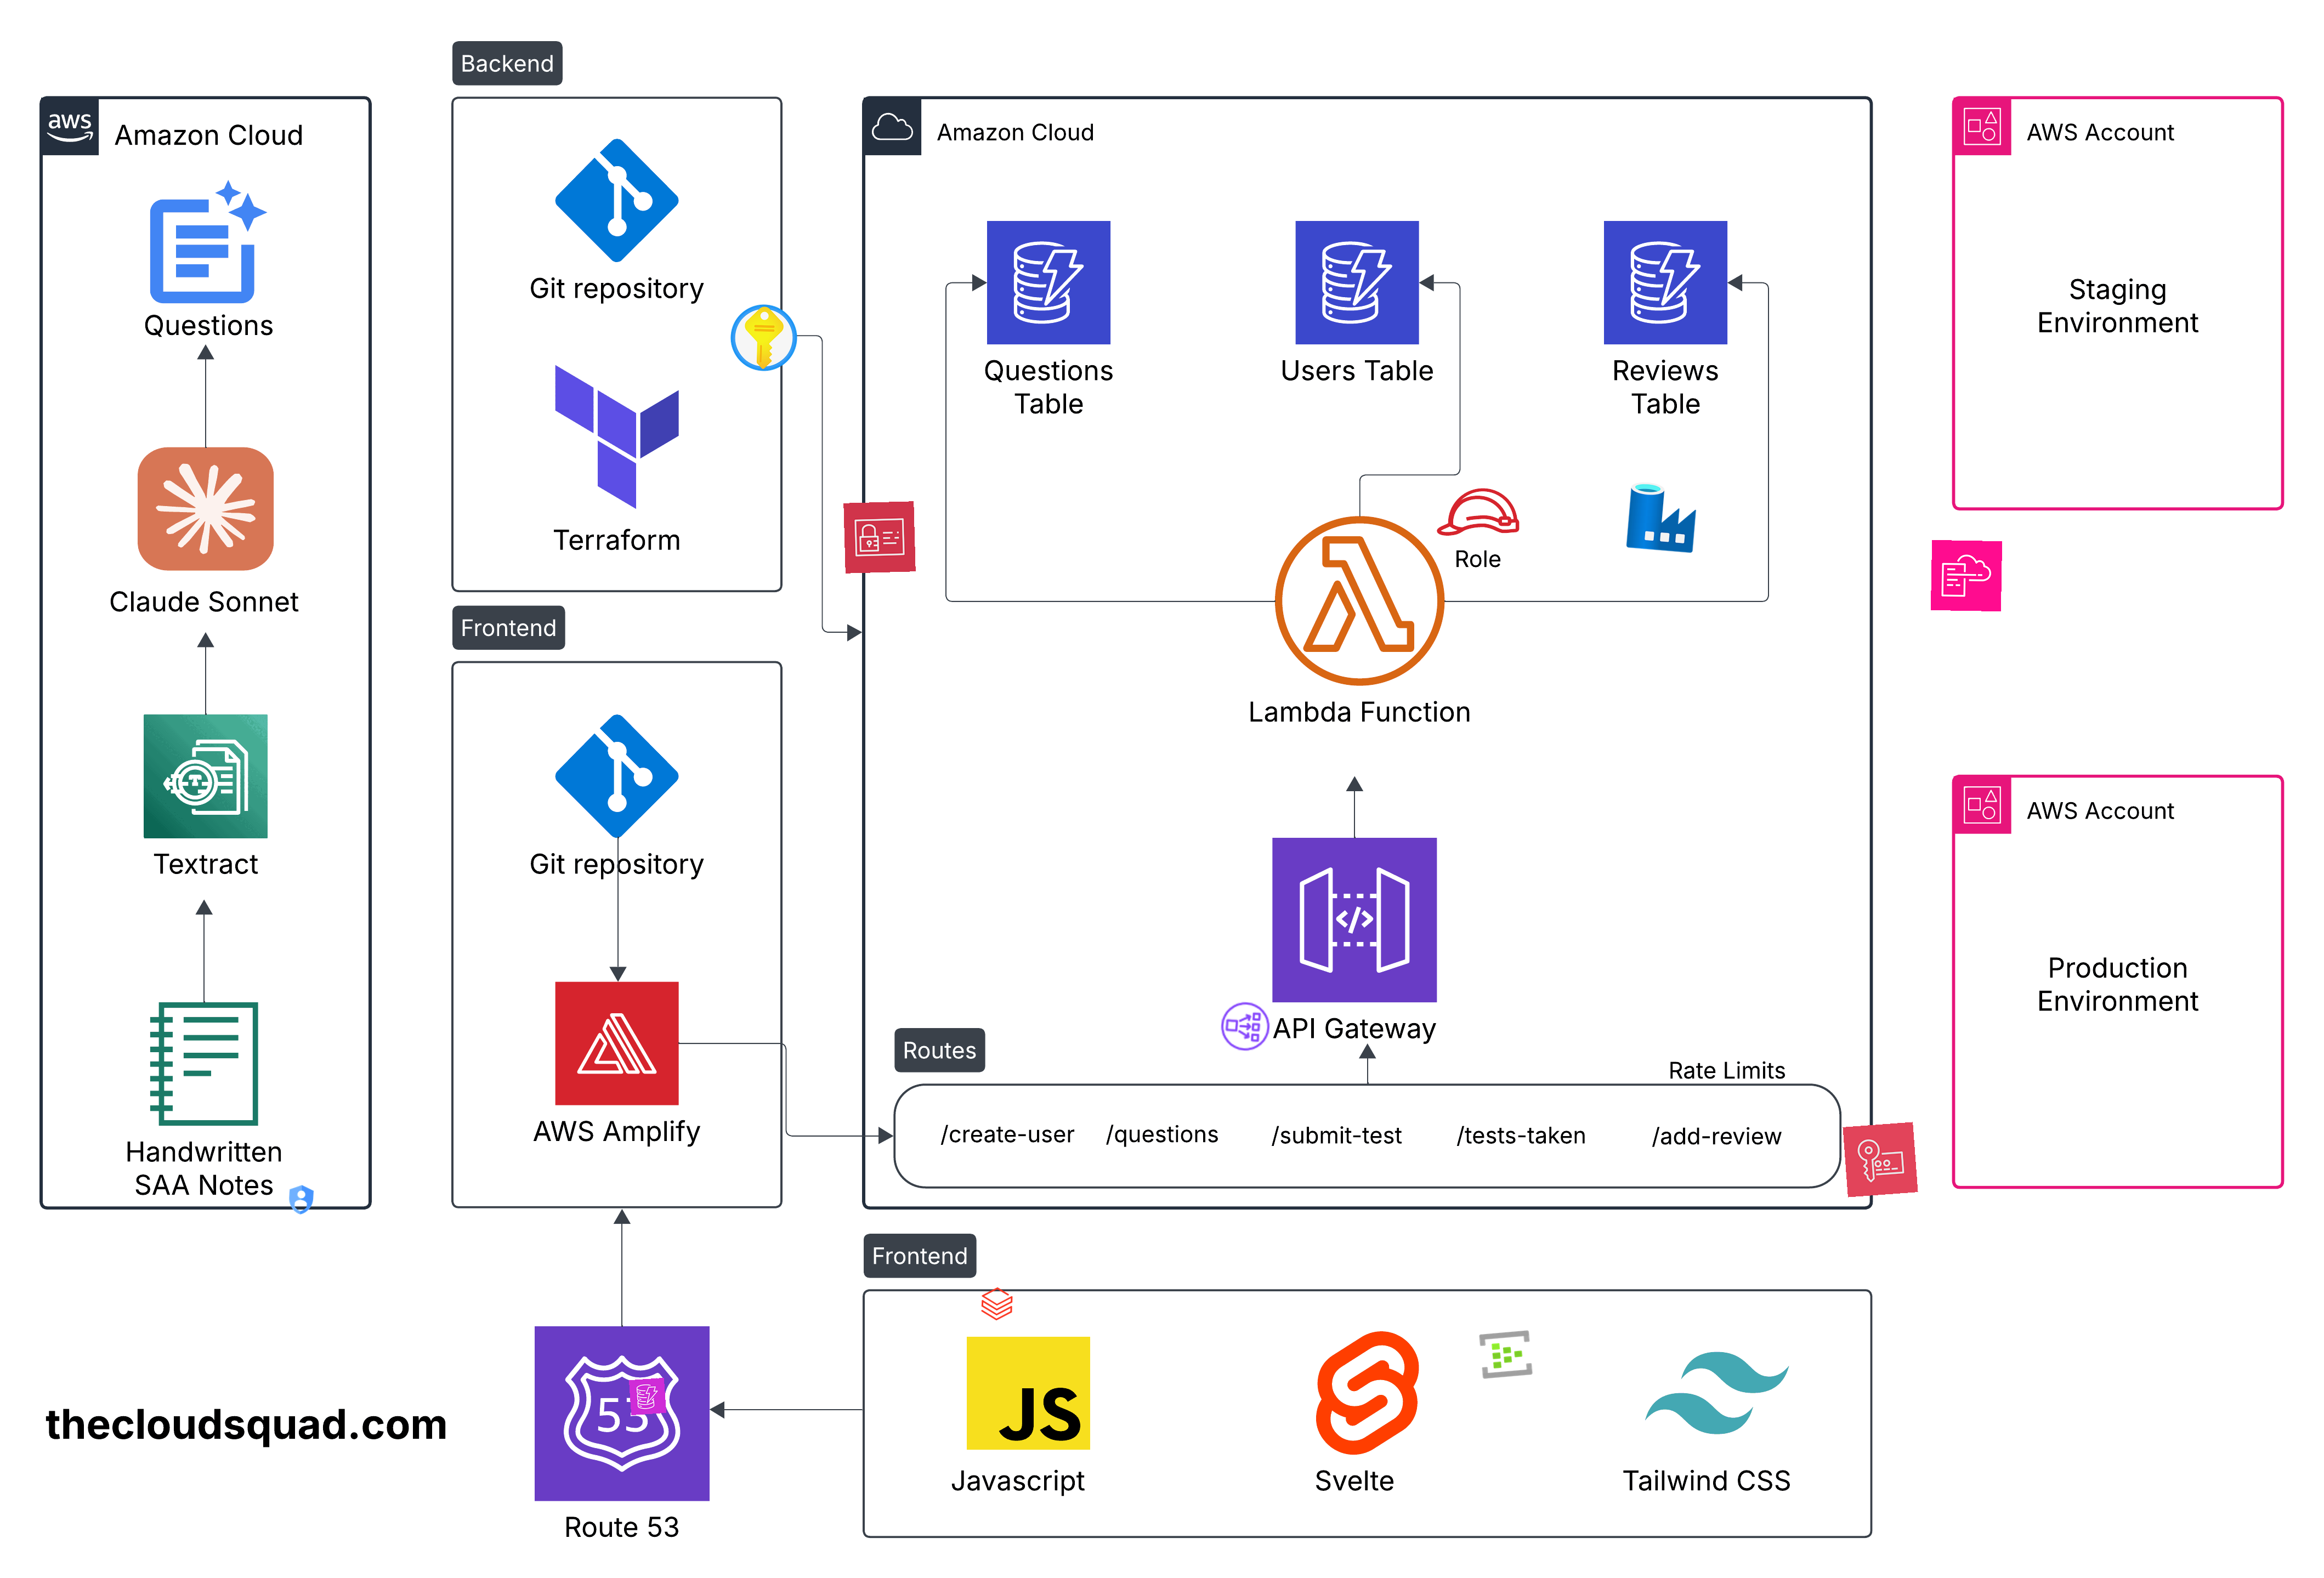aws_amazon_dynamodb: (629, 1377, 667, 1416)
aws_cloudformation: (1930, 539, 2002, 611)
aws_elastic_load_balancing_network_load_balancer: (1217, 999, 1275, 1055)
aws_identity_and_access_management: (843, 502, 916, 574)
aws_key_management_service: (1843, 1122, 1919, 1198)
azure_data_factories: (1623, 479, 1701, 555)
azure_databricks: (979, 1286, 1016, 1323)
azure_event_hubs: (1477, 1326, 1533, 1383)
azure_key_vaults: (727, 301, 799, 373)
gcp_identity_and_access_management: (282, 1180, 320, 1219)
